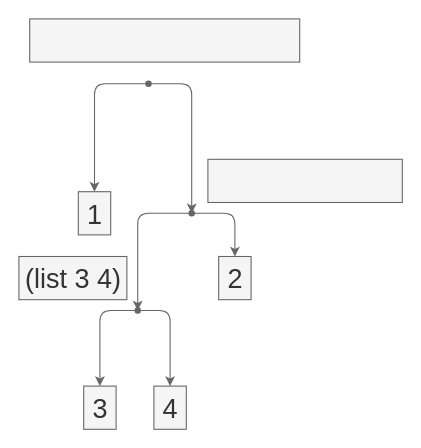
This 421x448 diagram has some shape labels left out. The shapes that lost their labels are listed below. From the top down, each one's box as (x1, y1, x2, y2) in pixels, then its label:
(29, 18, 300, 62): (list 1 (list 2 (list 3 4)))
(207, 158, 402, 202): (list 2 (list 3 4))
